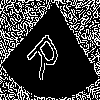R: (25, 24, 68, 83)
